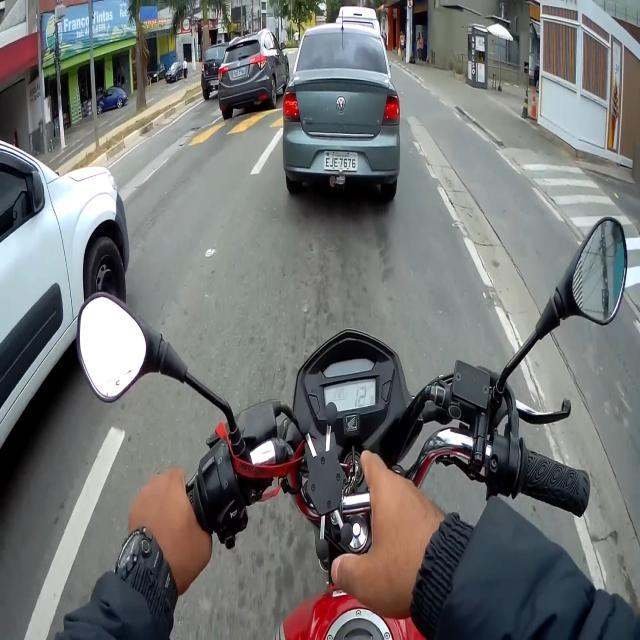Placa_mercosul_carro: (324, 150, 358, 171)
